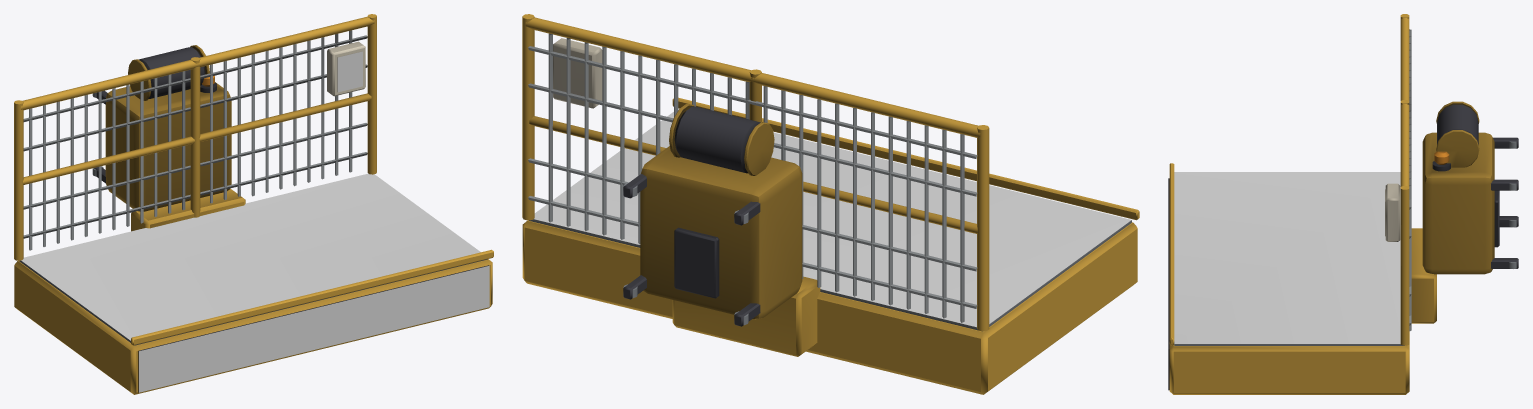
File: HoistCage.fbx
The picture shows the model from 3 angles, left to right: view 1: azimuth 30°, elevation 25°; view 2: azimuth 150°, elevation 25°; view 3: azimuth 270°, elevation 25°; orthographic projection. The views are drawn at different scales.
Parts seen in each view (by area): view 1: HoistCage; view 2: HoistCage; view 3: HoistCage.
Part boxes in pixels (x1,y1,x2,y2): HoistCage: (14, 14, 493, 394); HoistCage: (522, 14, 1139, 394); HoistCage: (1168, 14, 1518, 394).
Bounding box in the file's own units: 2.6 × 1.42 × 2.19.
